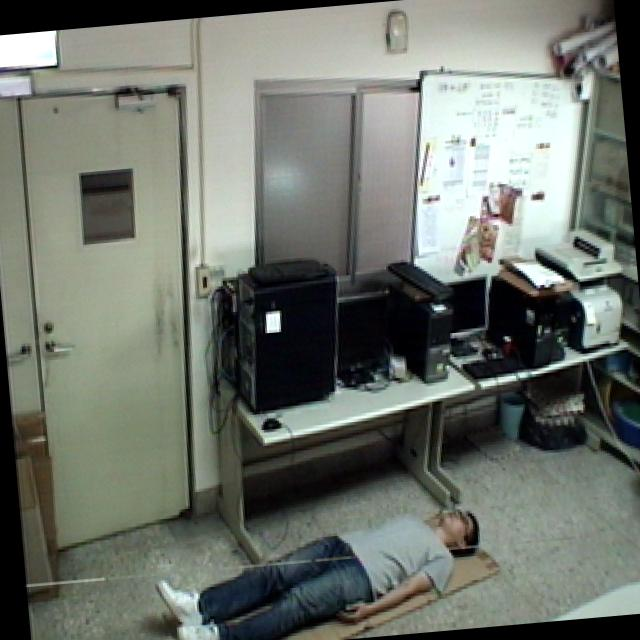lie: (140, 494, 497, 640)
